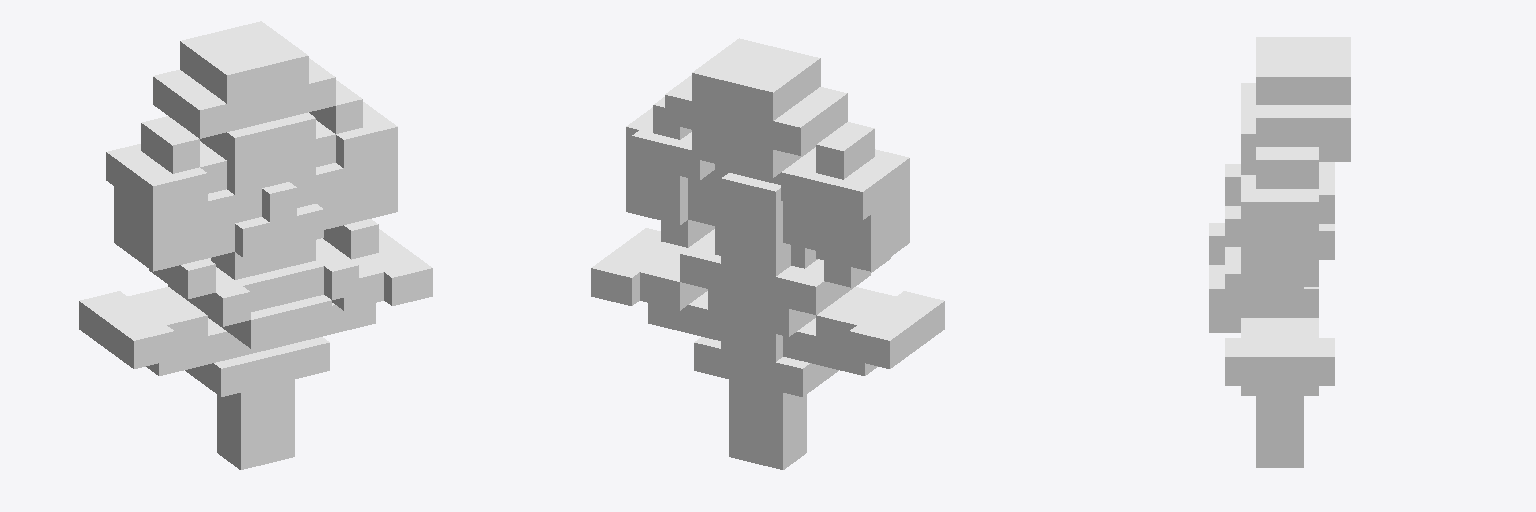
The model's file is 3DFlower.obj.
The picture shows the model from 3 angles: view 1: azimuth 30°, elevation 25°; view 2: azimuth 150°, elevation 25°; view 3: azimuth 270°, elevation 25°; orthographic projection.
Visible parts, largest first — view 1: Flower1-1; view 2: Flower1-1; view 3: Flower1-1.
Boxes of the visible parts, x1=… form: Flower1-1: x1=79, y1=21, x2=432, y2=469; Flower1-1: x1=591, y1=38, x2=944, y2=469; Flower1-1: x1=1209, y1=37, x2=1350, y2=467.
Size of the model in its own units: 2.2 by 2.8 by 0.9.